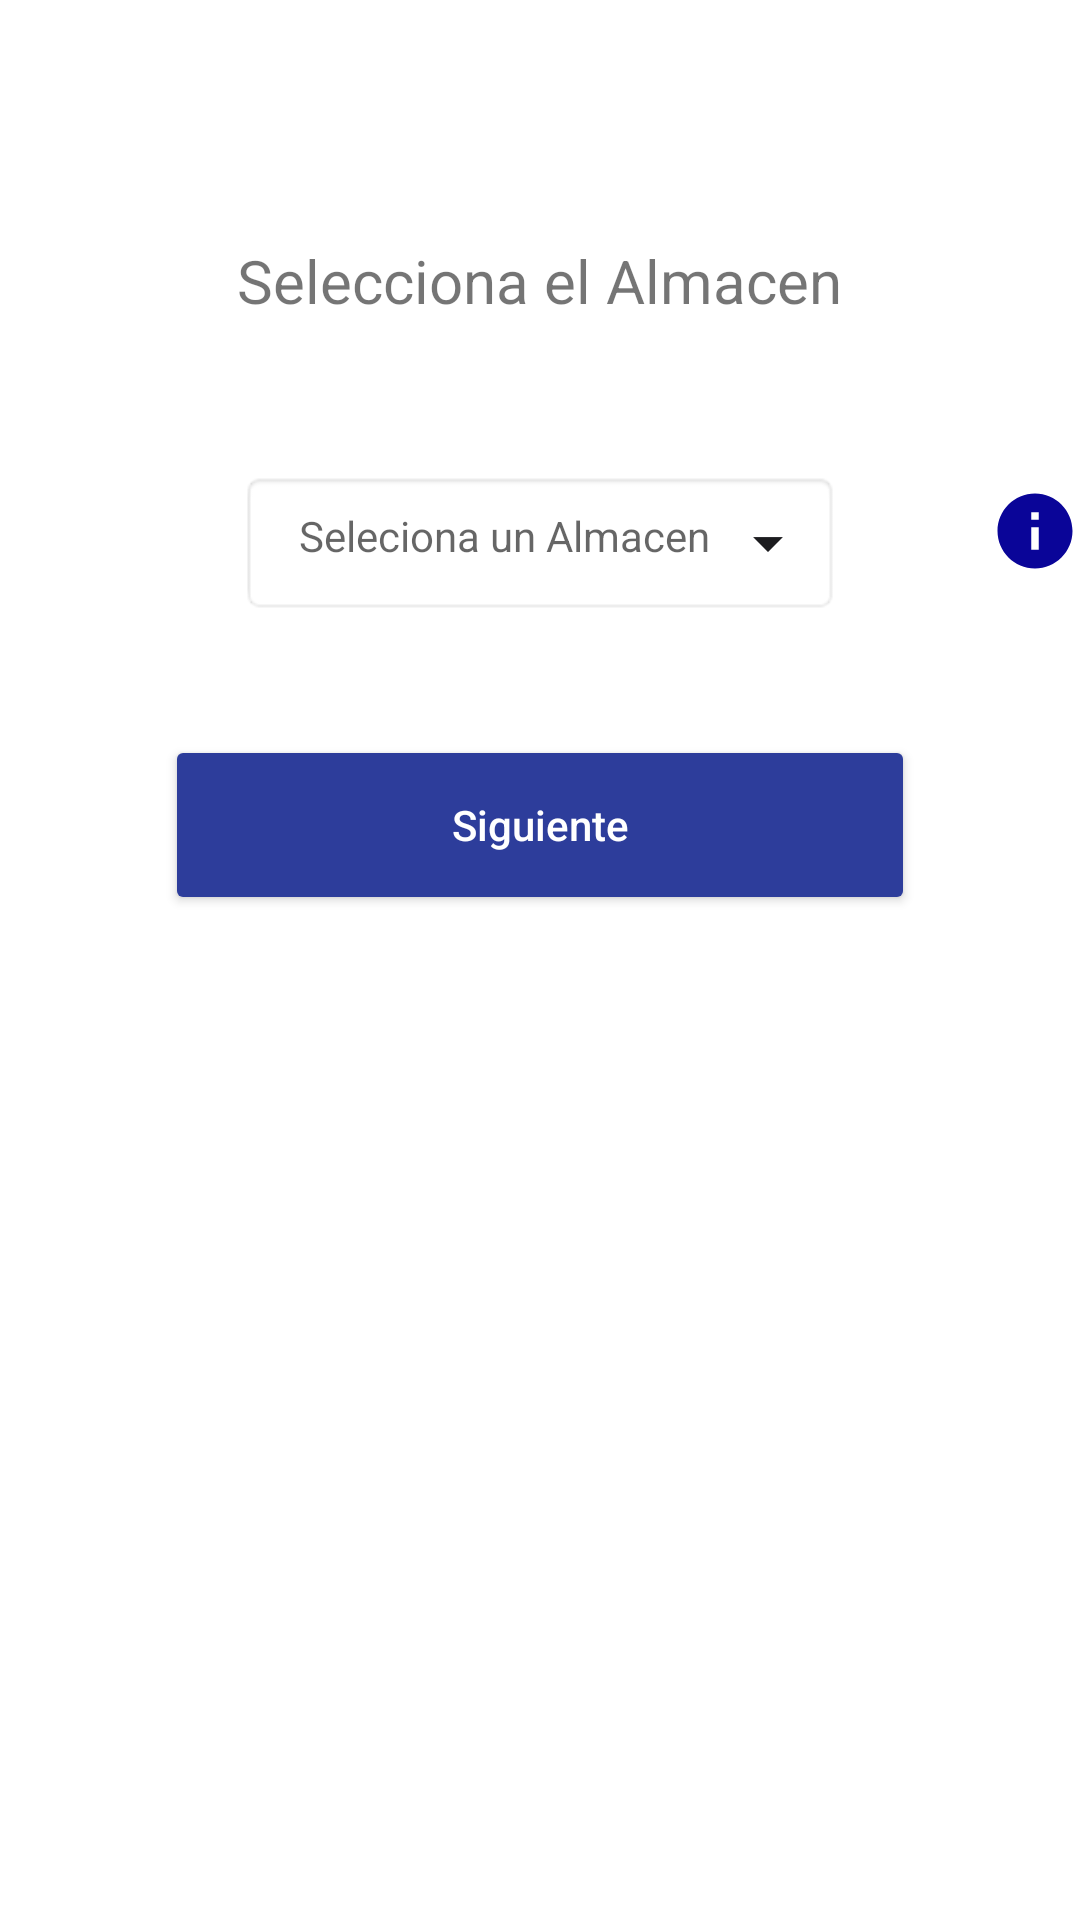

Screen size 1080px x 1920px. Icon name, then its box in pixels as (x1, y1, x2, y2):
info: (997, 493, 1073, 569)
